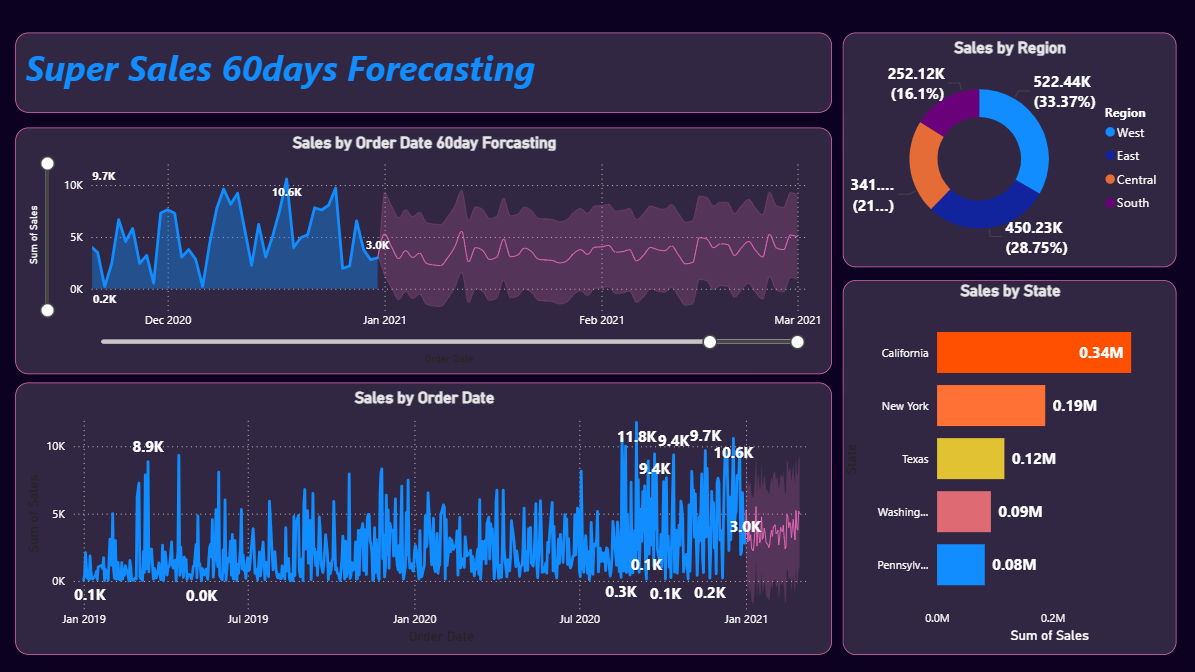

Layout of this report page (visuals, bound fields, positions):
{"tool":"powerbi","page":{"name":"Page 2","canvas":[1280,720],"ordinal":1},"visuals":[{"type":"lineChart","title":"Sales by Order Date 60day Forcasting","fields":{"Y":["Sum(SuperStore_Sales_Dataset.Sales)"],"Category":["SuperStore_Sales_Dataset.Order Date"]},"box":[17.1,135.7,871.4,262.9],"z":0},{"type":"clusteredBarChart","title":"Sales by State","fields":{"Y":["Sum(SuperStore_Sales_Dataset.Sales)"],"Category":["SuperStore_Sales_Dataset.State"]},"box":[905.7,298.6,345.7,400],"z":1000},{"type":"donutChart","title":"Sales by Region","fields":{"Y":["Sum(SuperStore_Sales_Dataset.Sales)"],"Category":["SuperStore_Sales_Dataset.Region"]},"box":[900,34.3,355.7,250],"z":2000},{"type":"lineChart","title":"Sales by Order Date","fields":{"Category":["SuperStore_Sales_Dataset.Order Date"],"Y":["Sum(SuperStore_Sales_Dataset.Sales)"]},"box":[17.1,408.6,871.4,290],"z":3000},{"type":"textbox","box":[17.1,34.3,871.4,85.7],"z":4000}]}

Visuals, with their boxes in screenshot pixels (x1, y1, x2, y2), scaled from the page's 1280x720 canvas onto the 1195x672 screenshot:
"Sales by Order Date 60day Forcasting" lineChart: l=16, t=127, r=829, b=372
"Sales by State" clusteredBarChart: l=846, t=279, r=1168, b=652
"Sales by Region" donutChart: l=840, t=32, r=1172, b=265
"Sales by Order Date" lineChart: l=16, t=381, r=829, b=652
textbox: l=16, t=32, r=829, b=112
